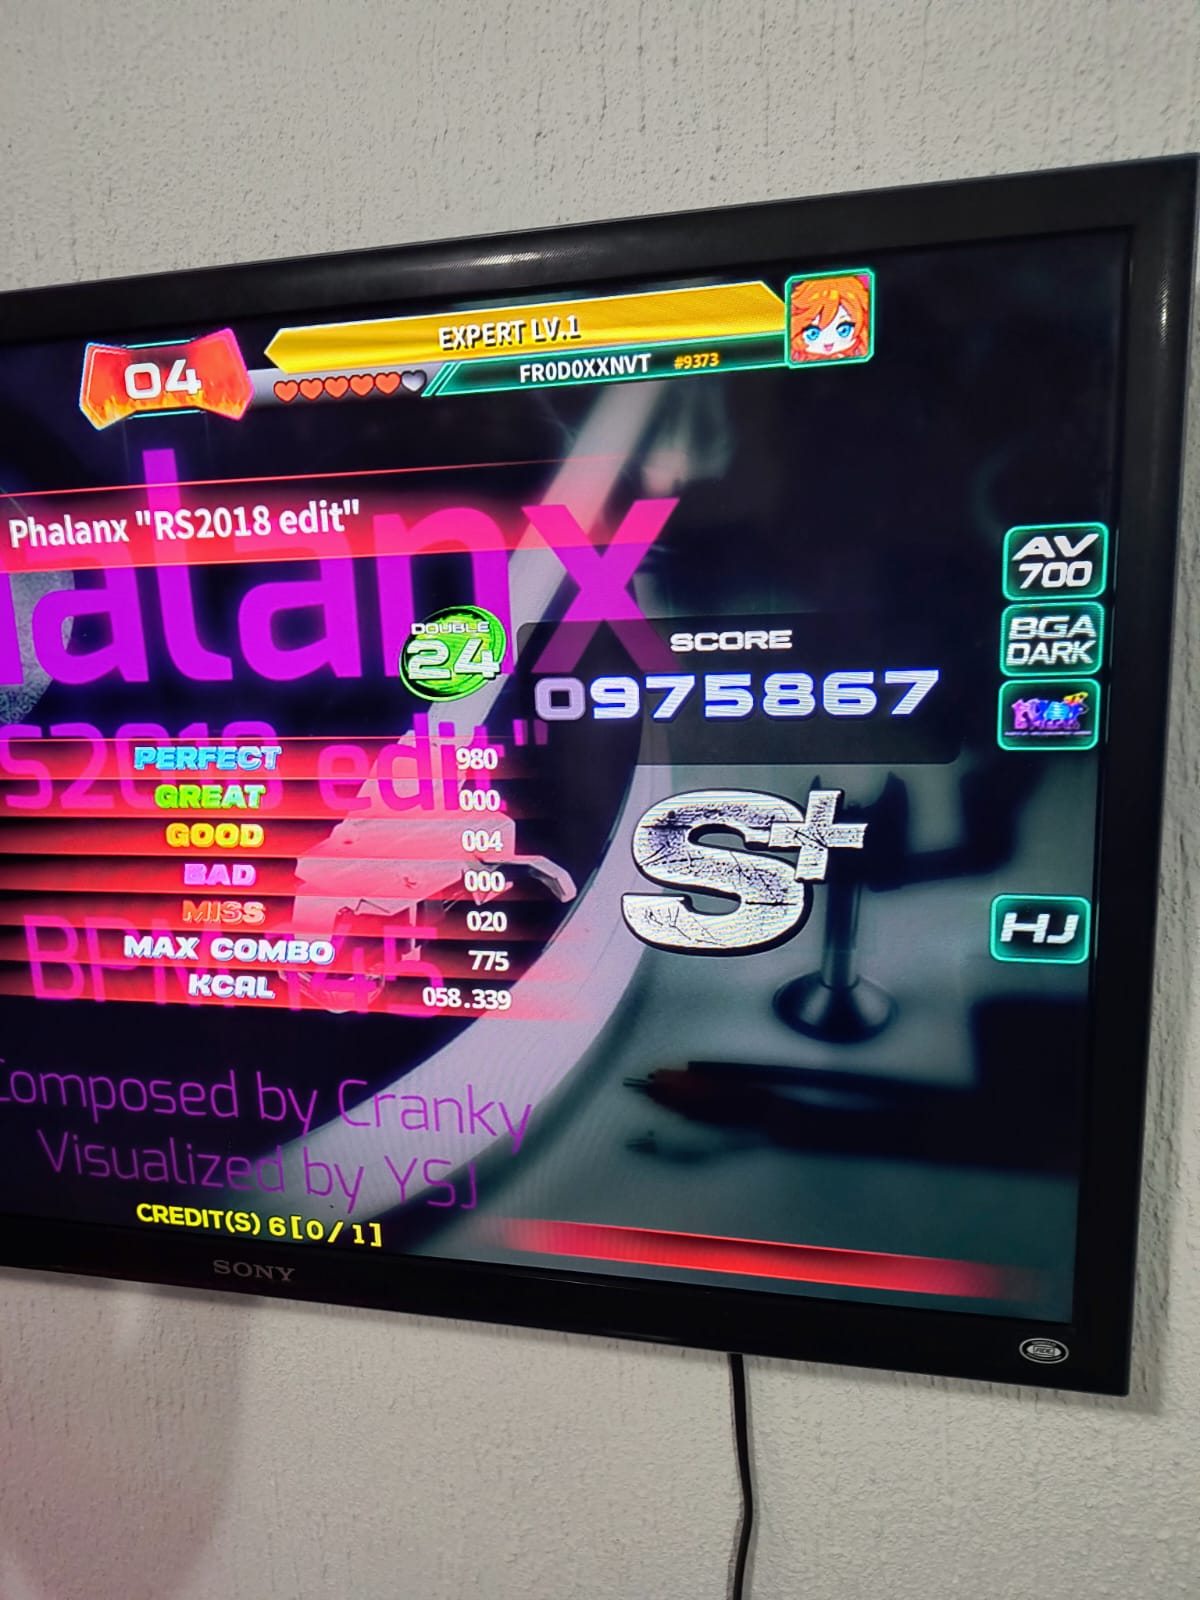difficulty: (382, 574, 562, 707)
fullscore: (0, 199, 1192, 1518), (500, 622, 983, 760)
rank: (585, 752, 885, 988)
song_name: (0, 471, 519, 588)
